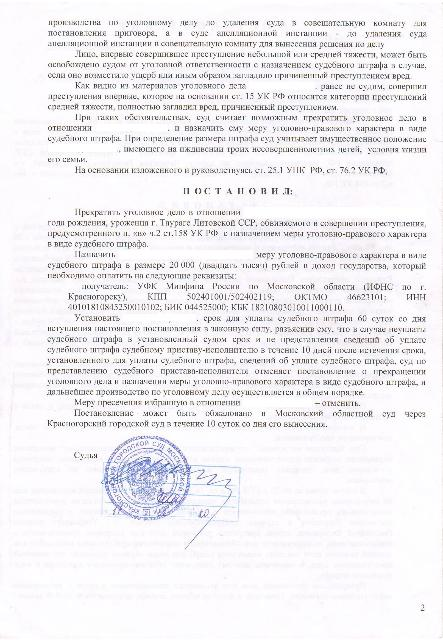stamp: (101, 435, 190, 521)
